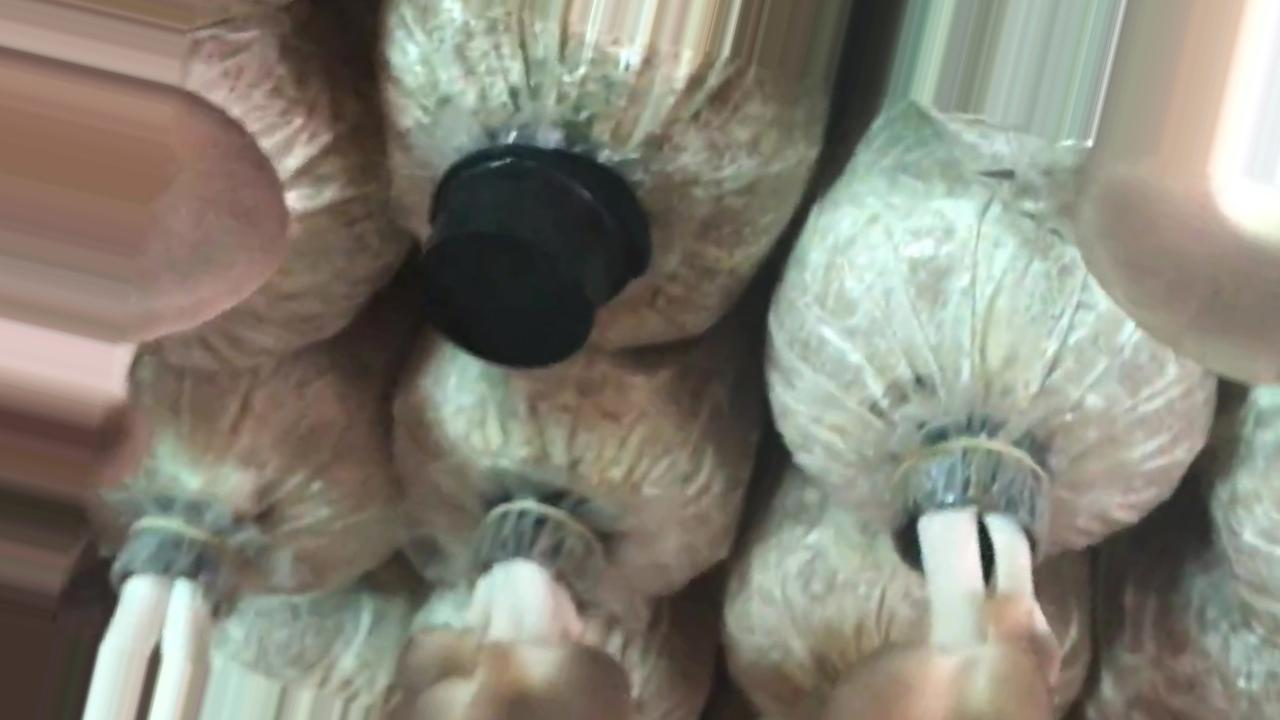nam: (1, 47, 288, 341), (1075, 1, 1280, 388), (842, 438, 1061, 720), (399, 506, 631, 719)
